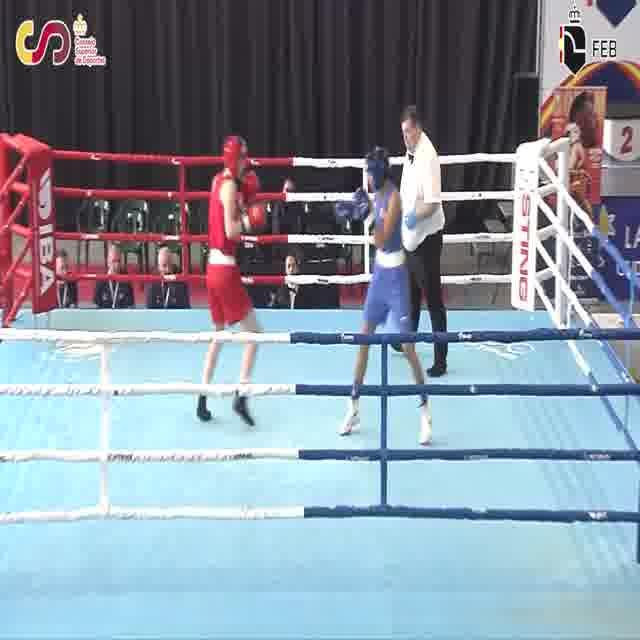blue-player: (330, 143, 435, 448)
red-player: (194, 132, 268, 429)
referee: (388, 98, 451, 384)
